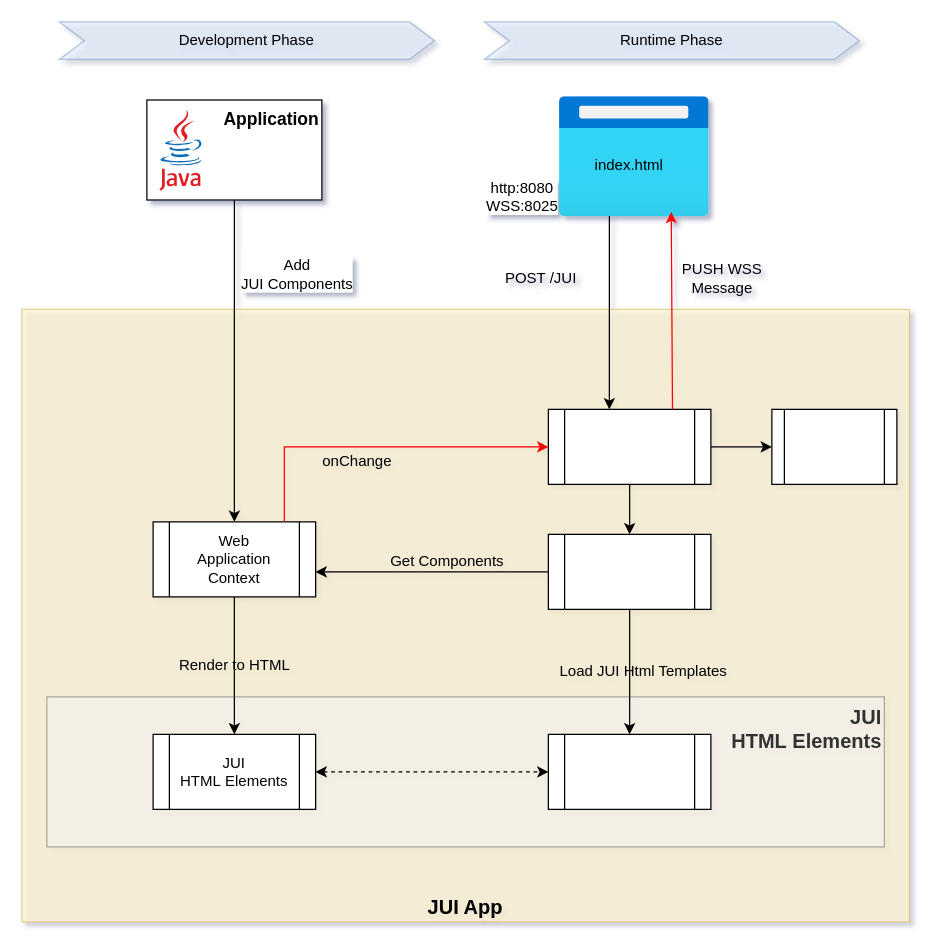
Some shapes in this 939 by 951 pixel diagram are drawn without their labels. The centre of each missing label's shape, as x and y in pixels:
"HTML Renderer" belongs at pixel 629 571.
"http/https/wss Server" belongs at pixel 629 446.
"JUI HTML Templates" belongs at pixel 629 771.
"User Session" belongs at pixel 834 446.
